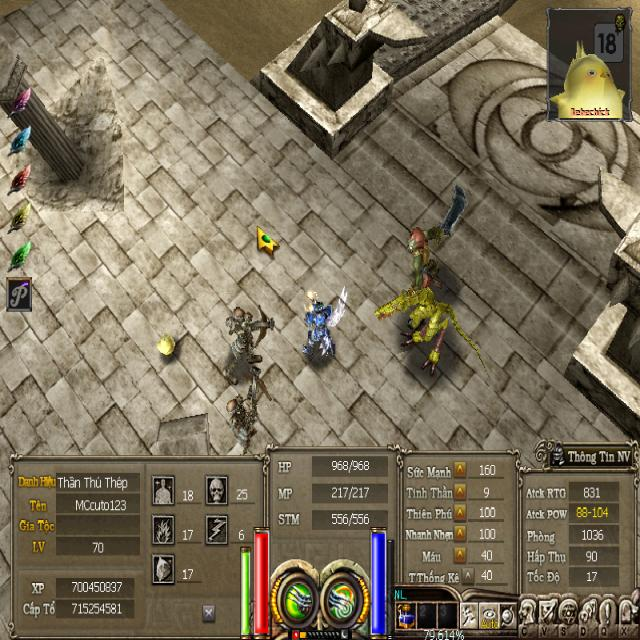monster: (377, 287, 461, 356), (220, 308, 275, 374), (399, 223, 447, 290), (226, 388, 268, 449), (158, 334, 178, 361)
